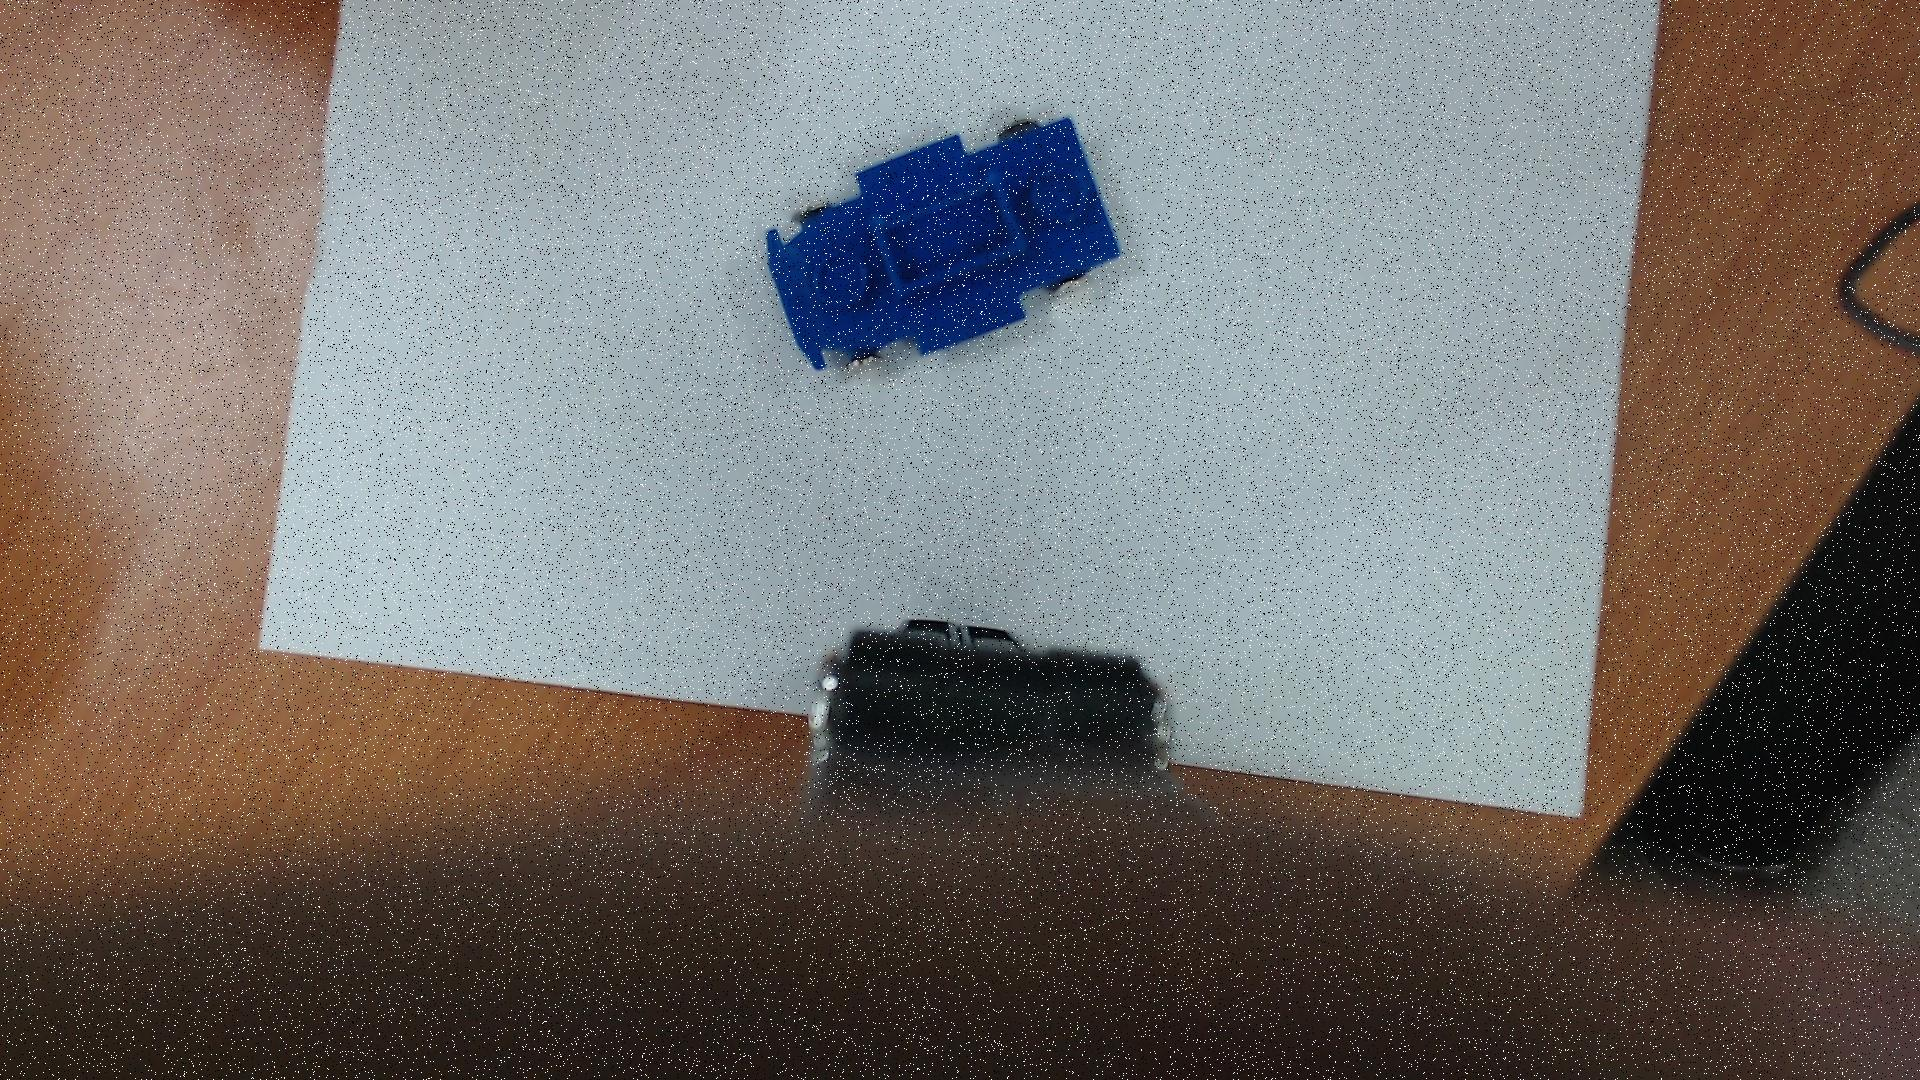lower_ng: (861, 162, 1040, 311)
